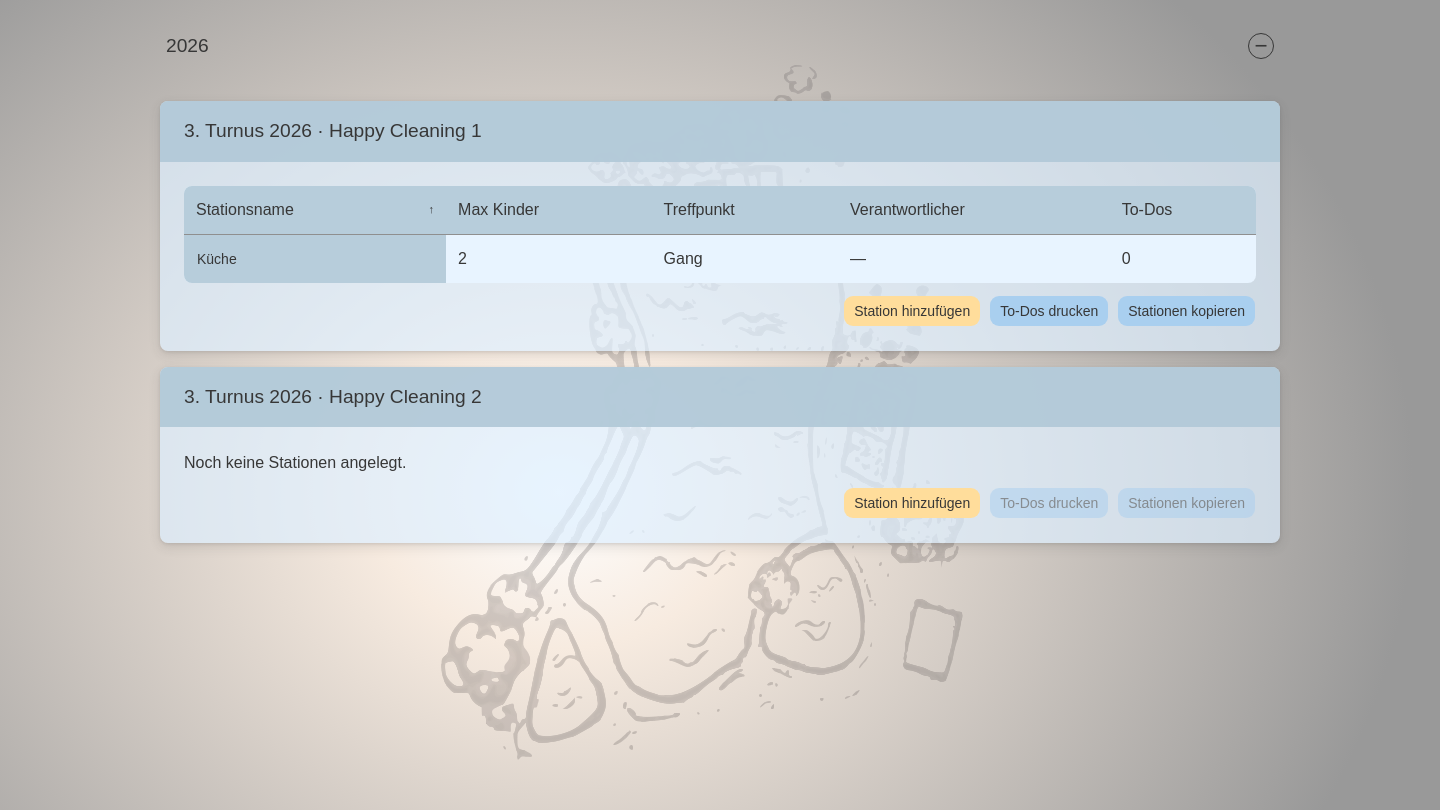
it: Happy Cleaning management › patches only the target card after copying from an open detail
The image size is (1440, 810).
Click the button with aria-label "Station Küche öffnen" at (217, 259), box [196, 248, 238, 270]
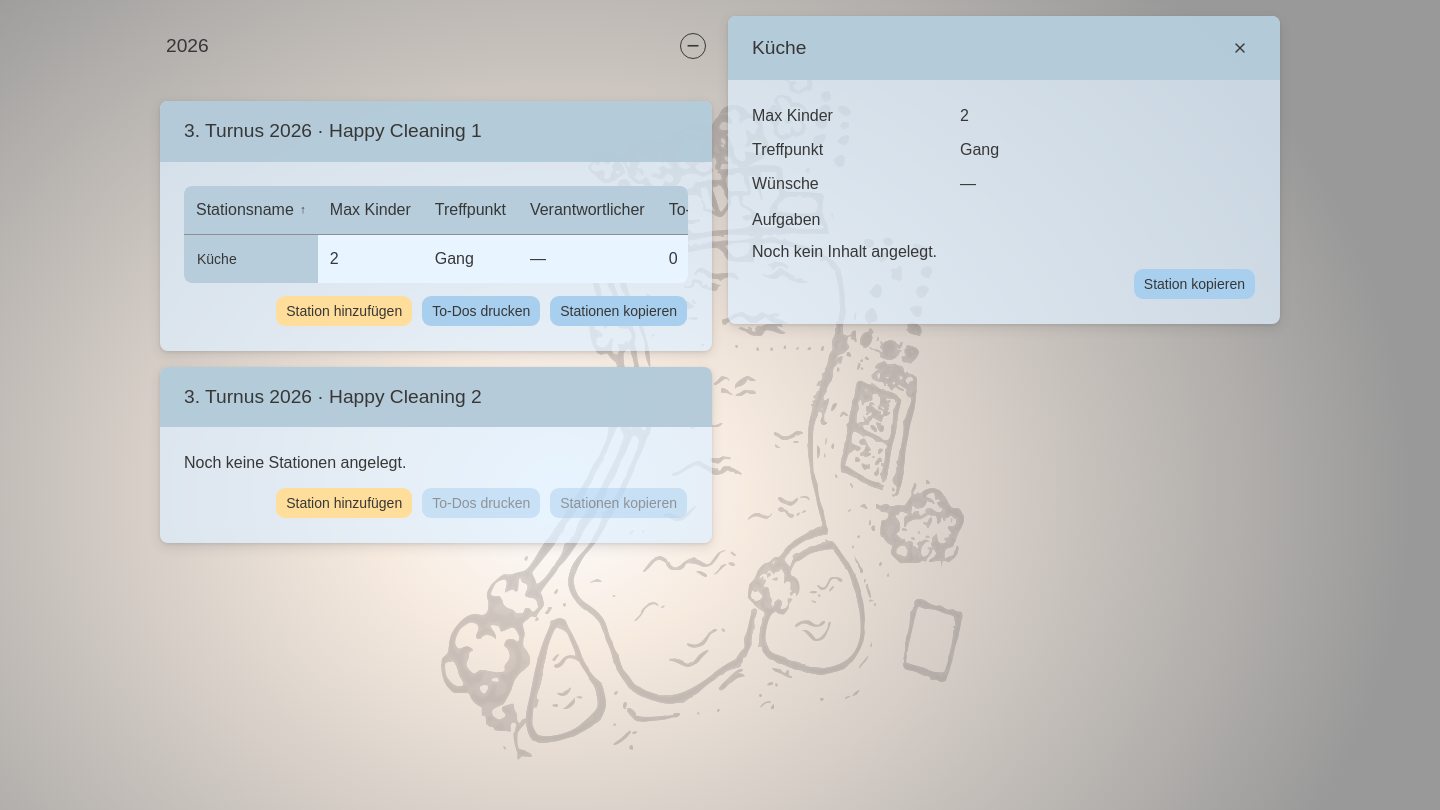
expect the heading "Küche" is shown: met, box [752, 34, 806, 62]
Click the button "Station kopieren" at (1194, 284), box [1133, 268, 1256, 300]
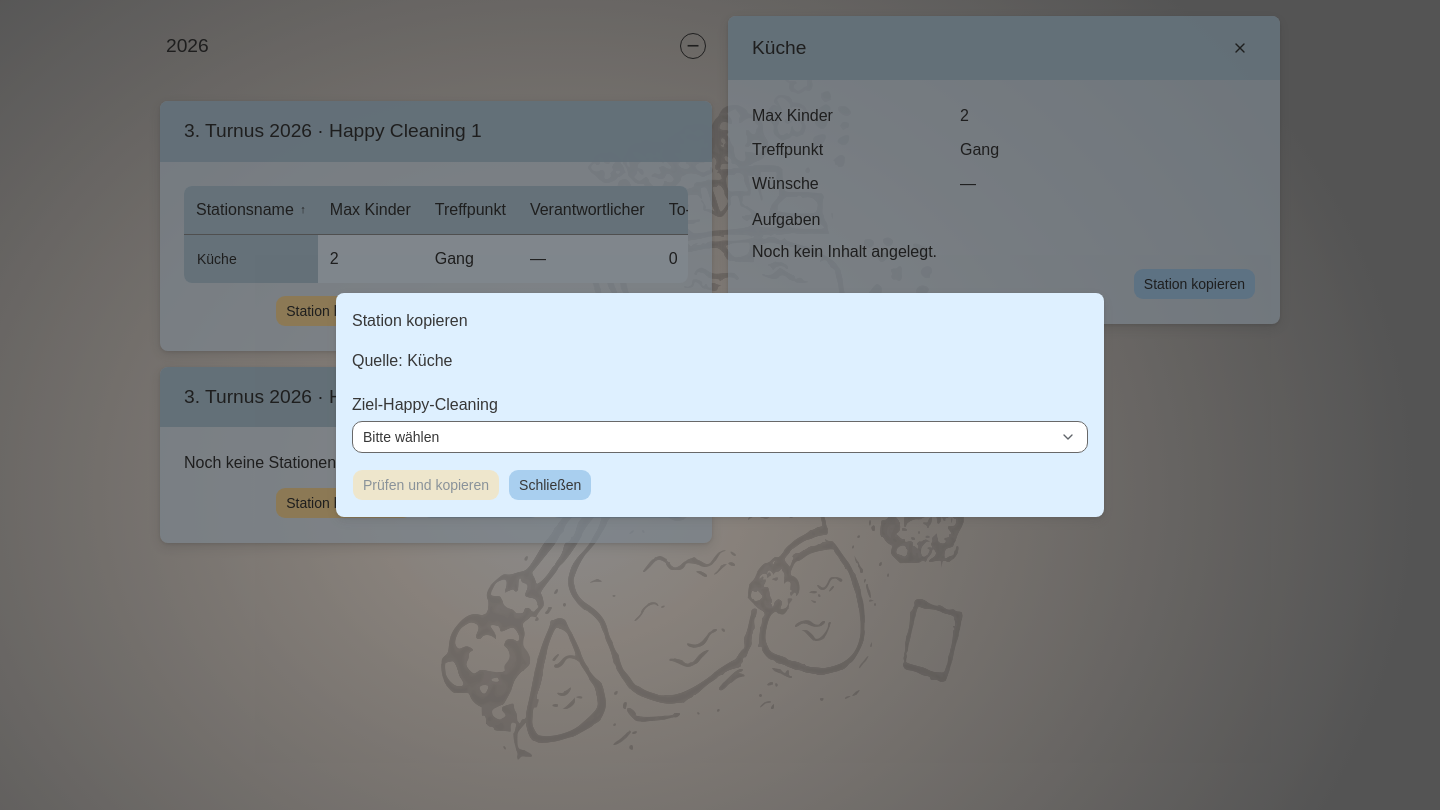
Select "Happy Cleaning 2" in the dropdown labelled "Ziel-Happy-Cleaning" at (720, 437), box [352, 421, 1088, 453]
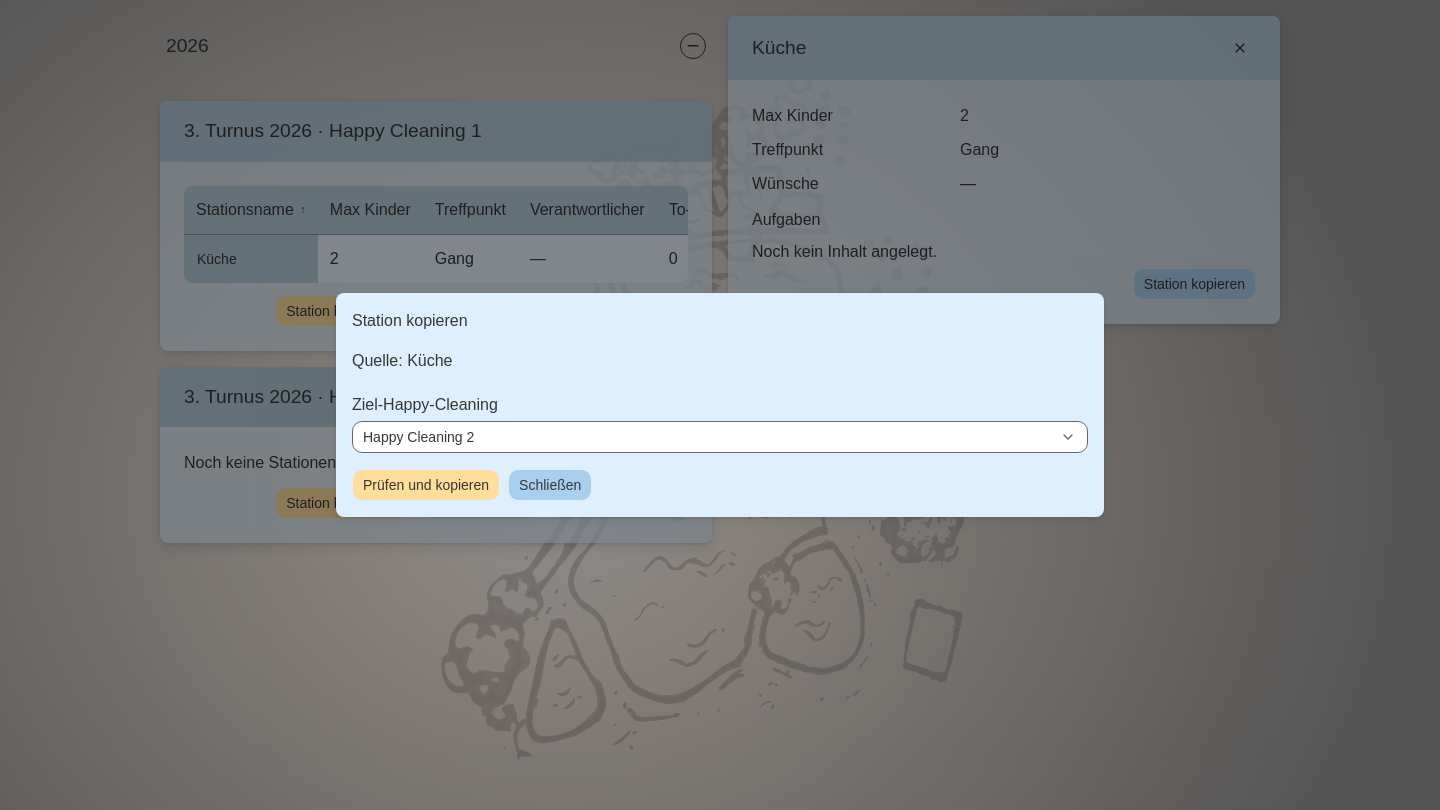
Click the button "Prüfen und kopieren" at (426, 485), box [352, 469, 500, 501]
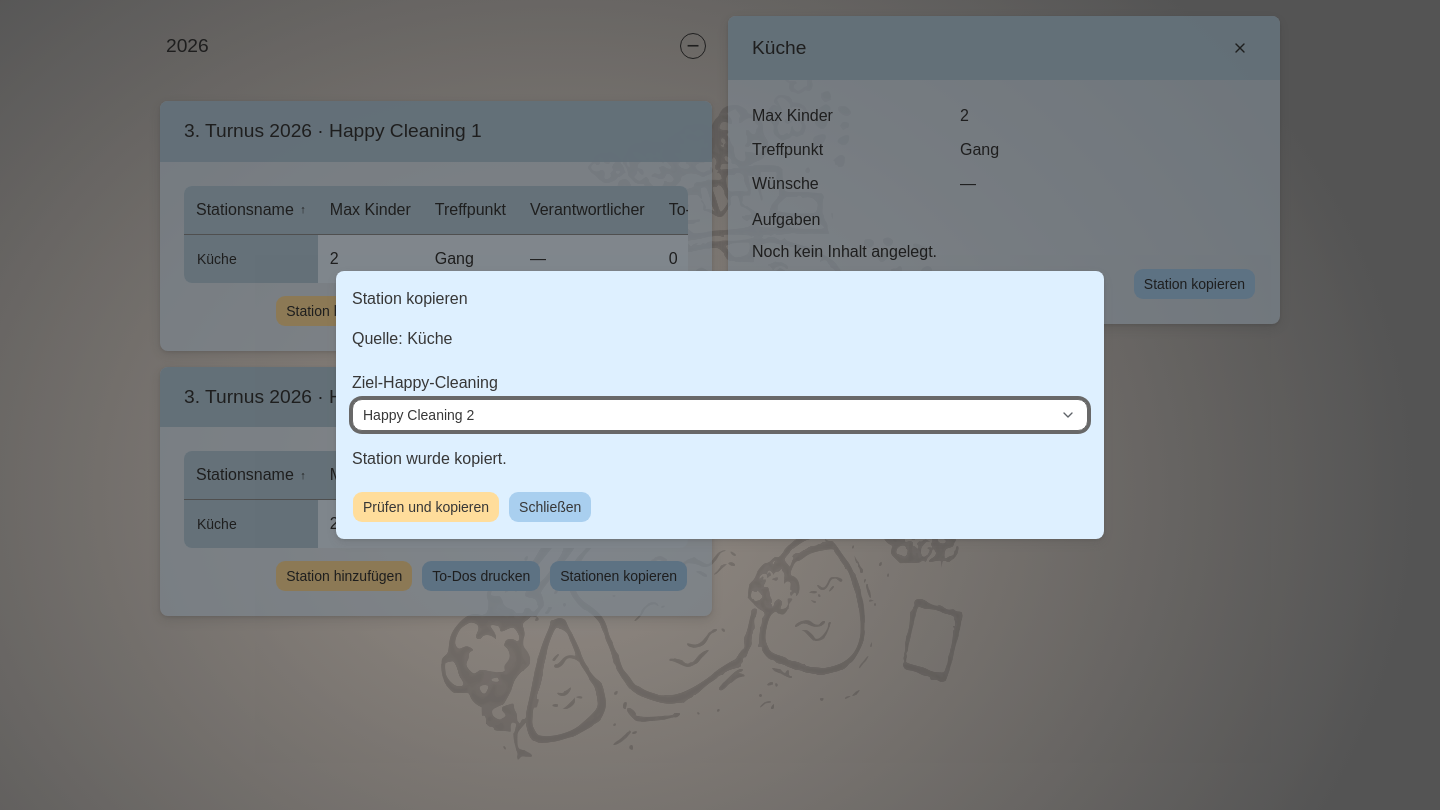
expect the heading "Küche" is shown: met, box [752, 34, 806, 62]
expect the button with aria-label "Station Küche öffnen" is shown: met, box [196, 513, 238, 535]
